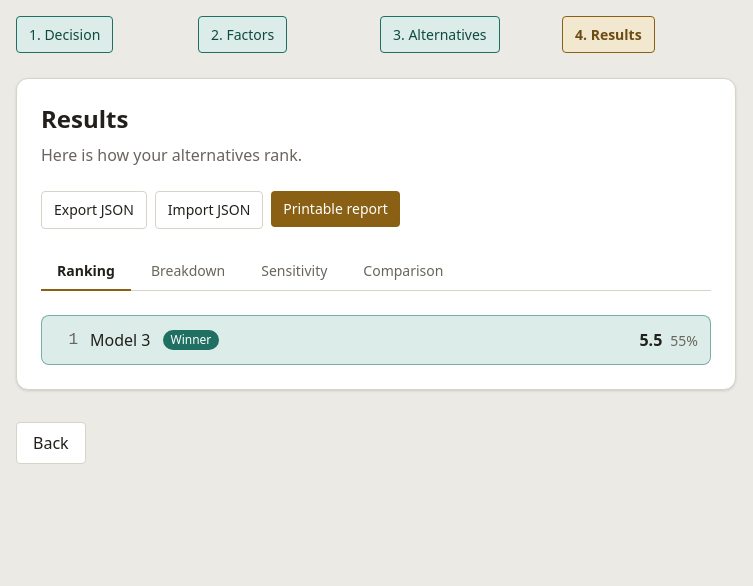
Test: DecisionToolbar — report › navigates to the printable report
What coordinates should you click on to do the following:
click the button "Printable report"
I would click on:
 (336, 209)
Its box is x1=271 y1=191 x2=400 y2=227.
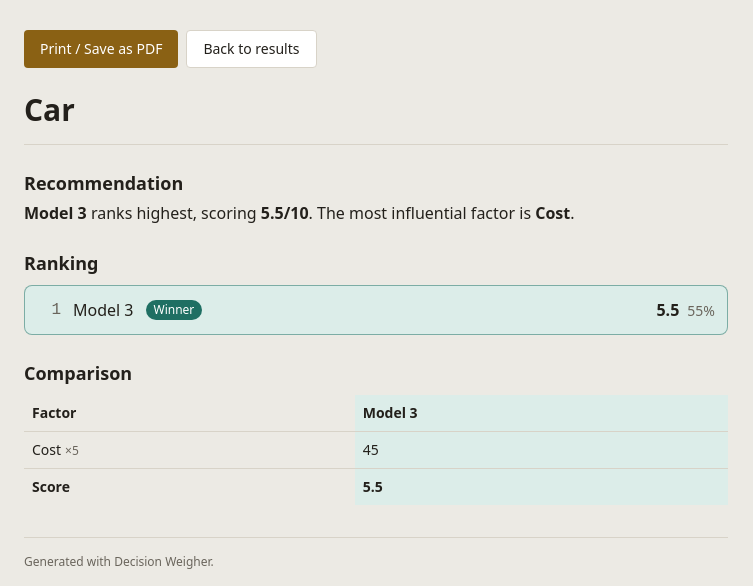
Expected: the button "Print / Save as PDF" is shown, x1=24 y1=30 x2=178 y2=68
